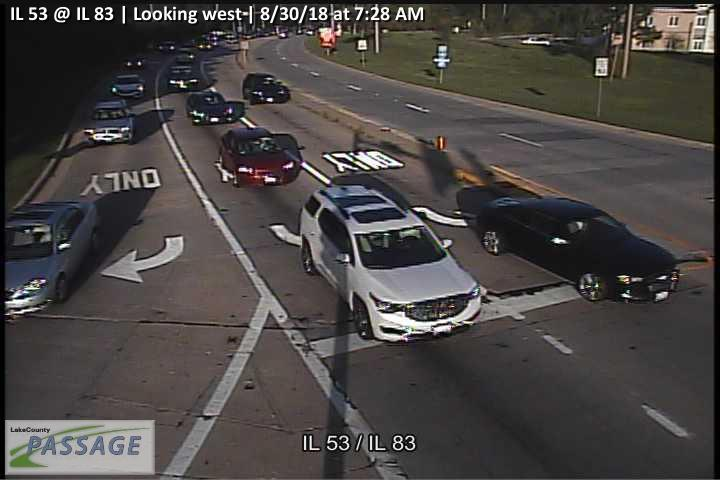SUV: (299, 184, 481, 343), (219, 128, 296, 189), (243, 71, 291, 106)
Sedan: (477, 195, 680, 303), (1, 198, 100, 322), (84, 100, 136, 144), (186, 89, 233, 126), (111, 74, 144, 101), (167, 66, 200, 92)
